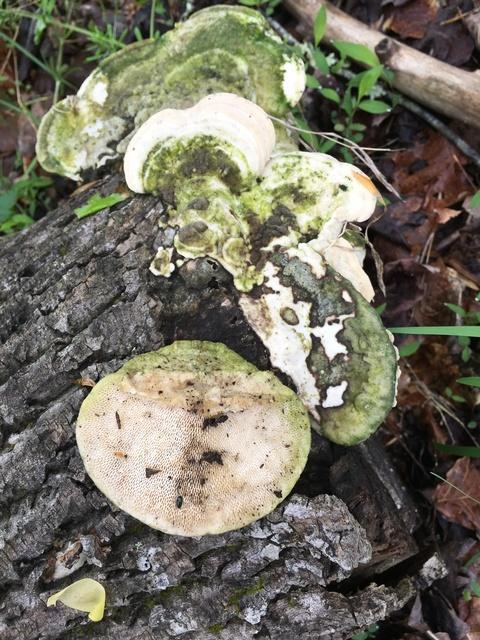poisonous_mushroom: (16, 0, 443, 433), (73, 337, 312, 538)
